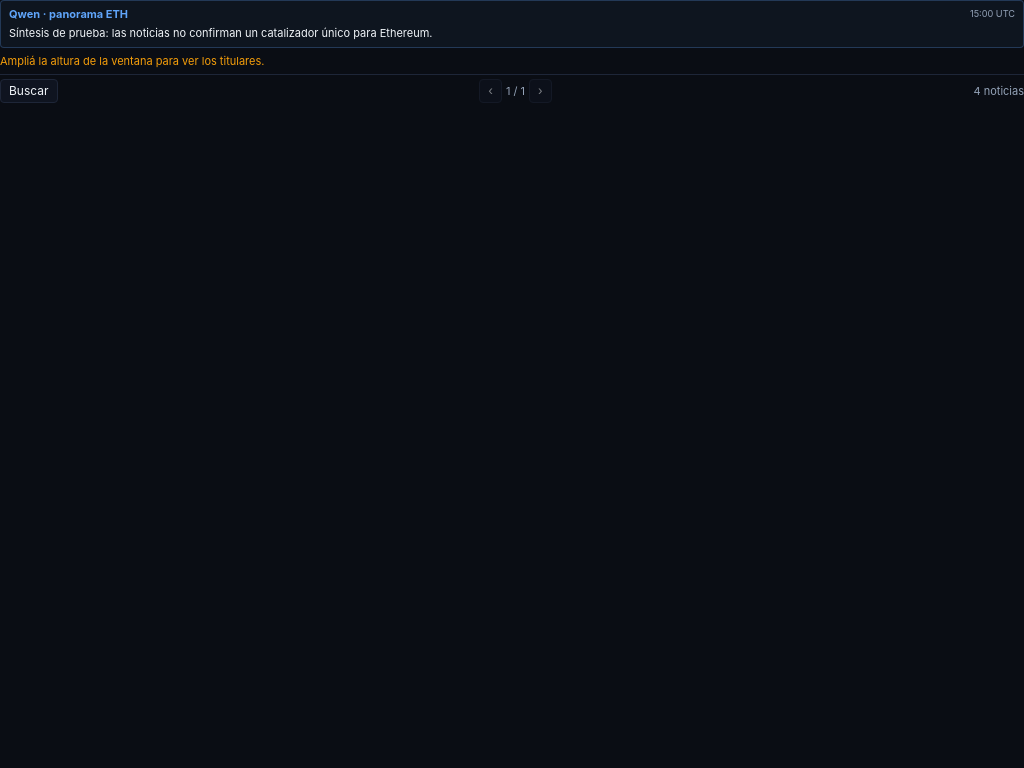
Test: TerminalNewsPanel › pins only a real Qwen news summary above search results
The width and height of the screenshot is (1024, 768).
Expected: the element named "Qwen, resumen de noticias" shows "Síntesis de prueba: las noticias no confirman un catalizador único para Ethereum.", [9,26,432,40]
Step 1. Click the button with aria-label "Buscar noticias" → (29, 91), box [0,79,58,103]
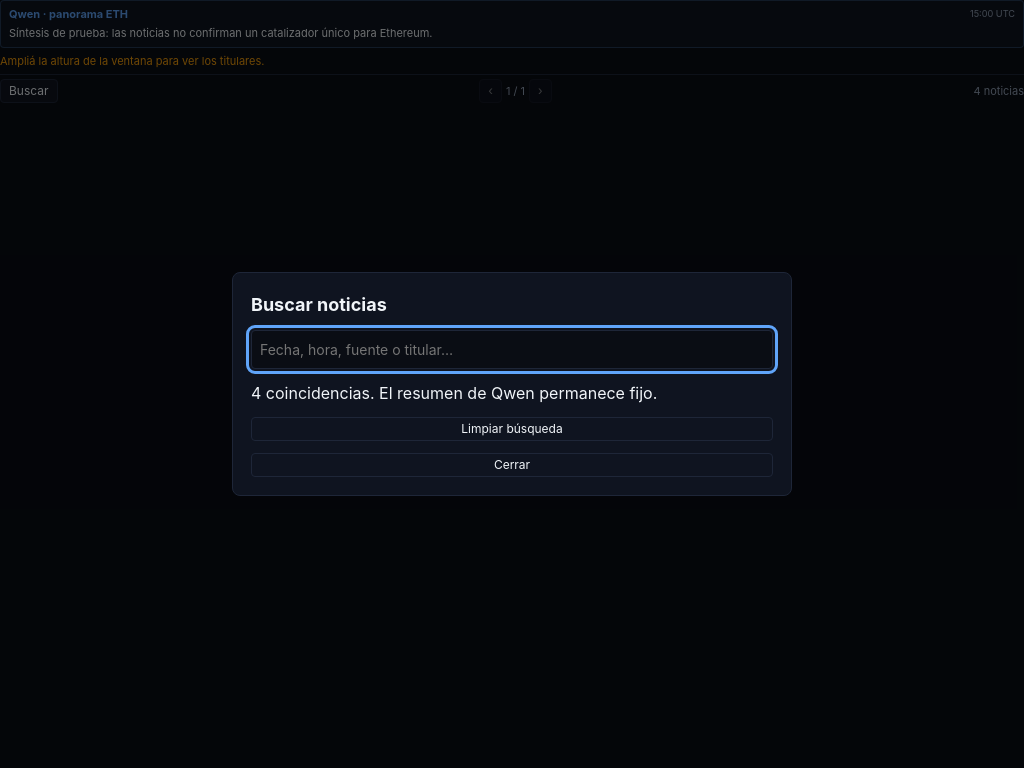
Step 2. Type "sin coincidencias" into the search field → (512, 350), box [251,330,773,369]
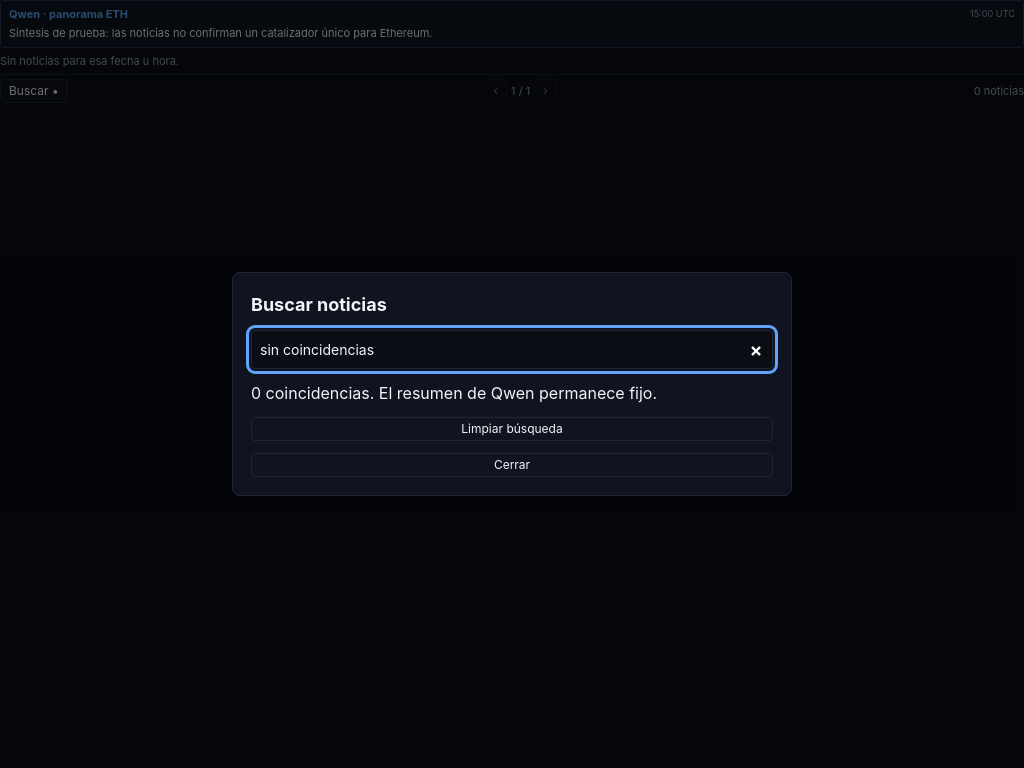
Expected: the element named "Qwen, resumen de noticias" shows "Síntesis de prueba: las noticias no confirman un catalizador único para Ethereum.", [9,26,432,40]
Now the text "Sin noticias para esa fecha u hora." is shown, box [0,54,179,68]
